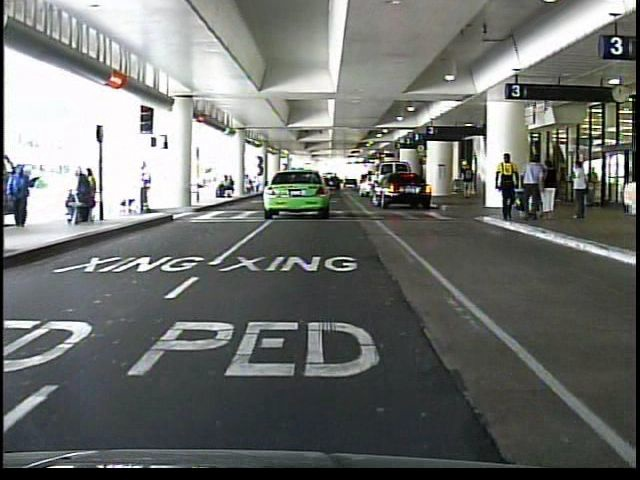person: (490, 151, 520, 228), (12, 161, 45, 226), (565, 157, 595, 228), (127, 160, 157, 222), (520, 150, 542, 226), (540, 159, 557, 224), (458, 160, 479, 204)
